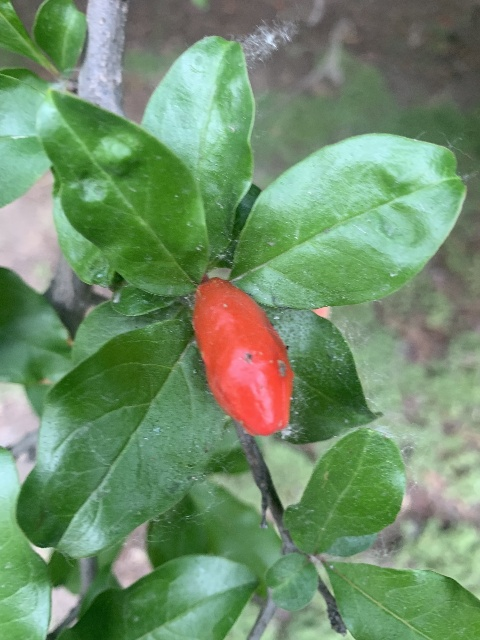bud: (191, 275, 293, 437)
